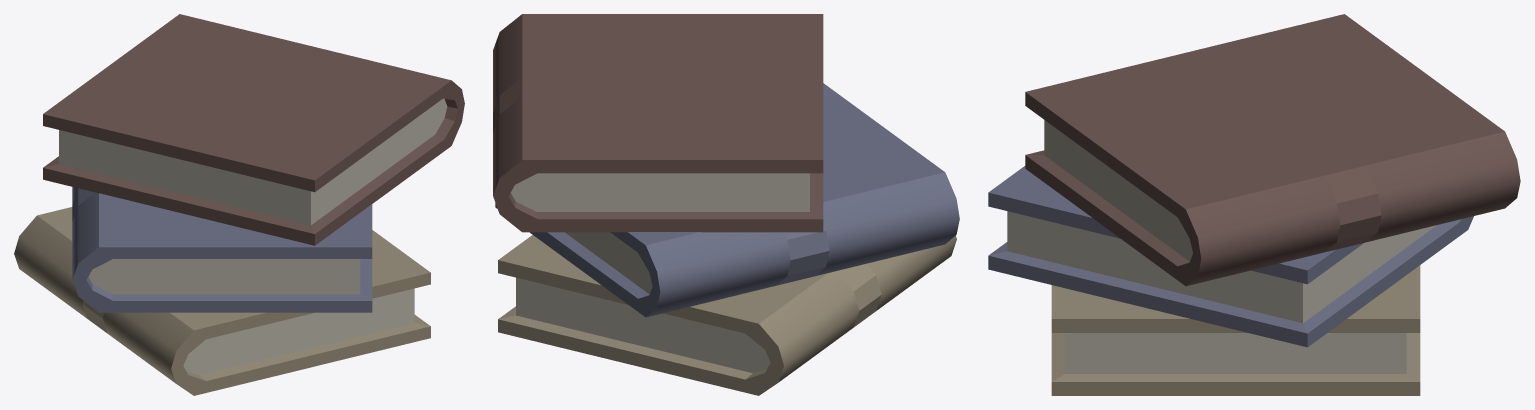
Rendered from BoekStapel2.fbx.
3 renders of one model, left to right at view 1: azimuth 30°, elevation 25°; view 2: azimuth 150°, elevation 25°; view 3: azimuth 270°, elevation 25°, orthographic. The views are drawn at different scales.
Visible parts, largest first — view 1: polySurface3281; view 2: polySurface3281; view 3: polySurface3281.
Part boxes in pixels (box(x1,y1,x2,y2)): polySurface3281: box(14, 14, 464, 395); polySurface3281: box(493, 14, 959, 395); polySurface3281: box(988, 14, 1520, 395).
Size of the model in its own units: 0.2292 by 0.1057 by 0.2205.
